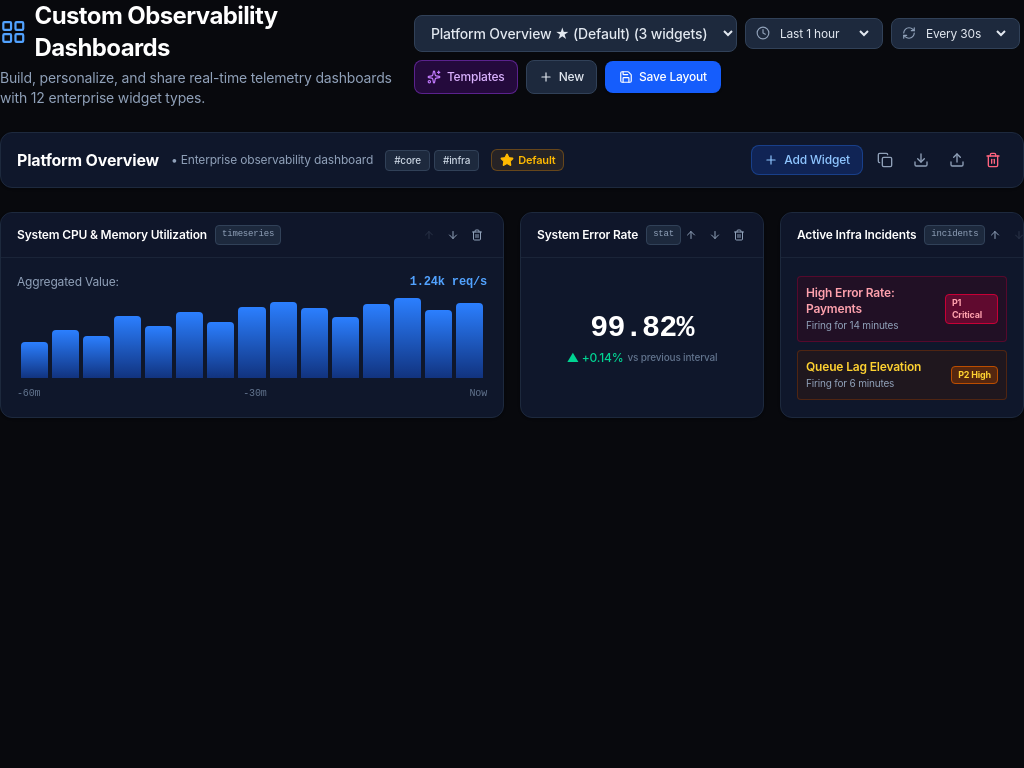
it: DashboardsPage › opens template gallery modal when Templates button clicked
The image size is (1024, 768).
Step 1. Click the button "Templates" → point(466, 76), box [414, 60, 518, 94]
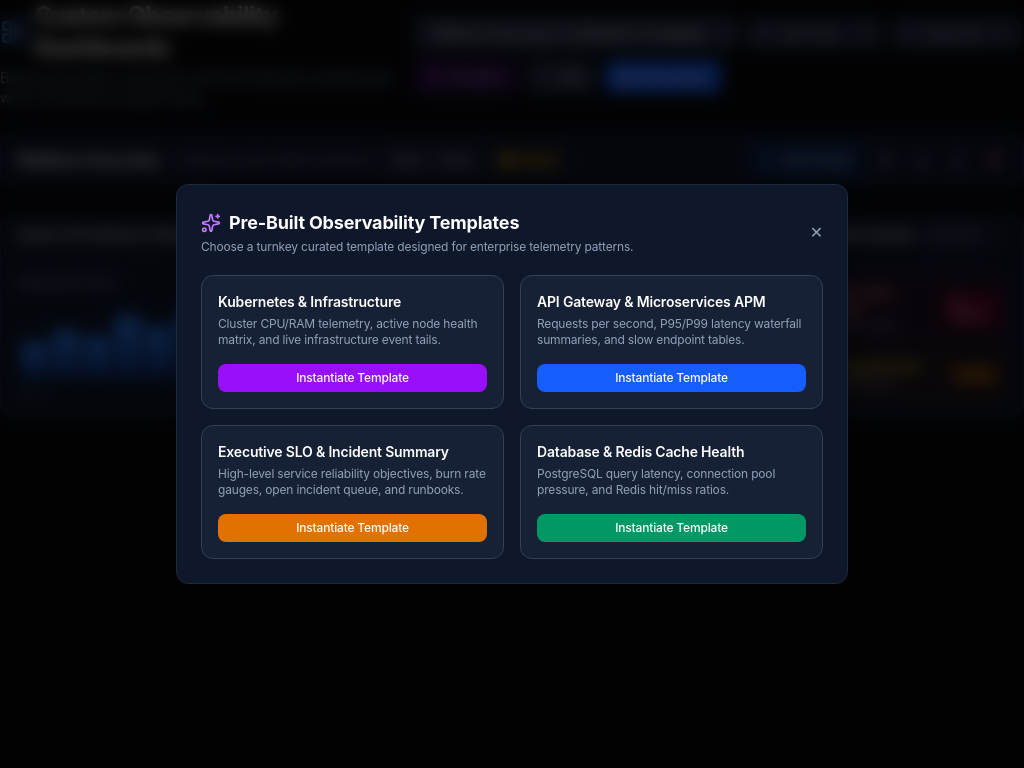
Check: the heading "Pre-Built Observability Templates" is shown, box [201, 212, 519, 233]
Check: the heading "Kubernetes & Infrastructure" is shown, box [218, 293, 401, 310]
Check: the heading "API Gateway & Microservices APM" is shown, box [537, 293, 766, 310]
